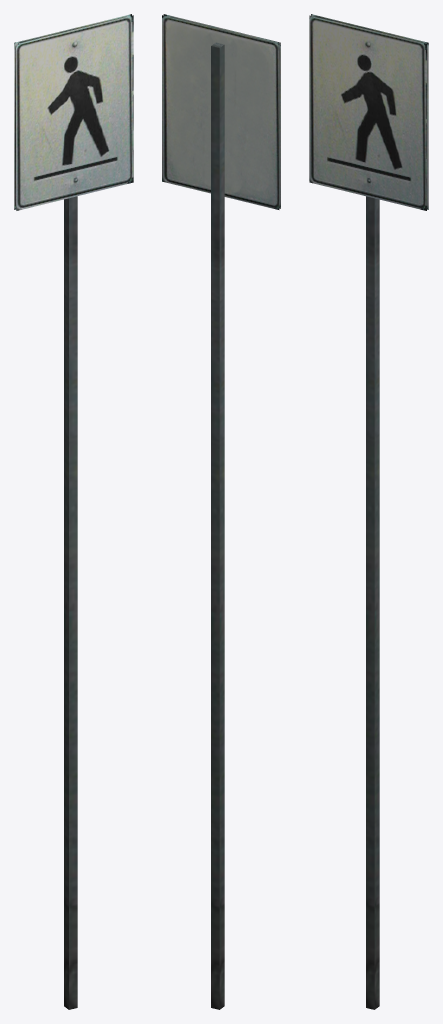
Rendered from walkway.obj.
The picture shows the model from 3 angles, left to right: view 1: azimuth 30°, elevation 25°; view 2: azimuth 150°, elevation 25°; view 3: azimuth 330°, elevation 25°; orthographic projection.
Visible parts, largest first — view 1: handicawparking01; view 2: handicawparking01; view 3: handicawparking01.
Boxes of the visible parts, x1=… form: handicawparking01: x1=14, y1=14, x2=133, y2=1009; handicawparking01: x1=162, y1=14, x2=280, y2=1009; handicawparking01: x1=309, y1=14, x2=428, y2=1009.
Bounding box in the file's own units: 0.2663 × 2.12 × 0.0265.
Materials: 1 (1 with a texture image).
